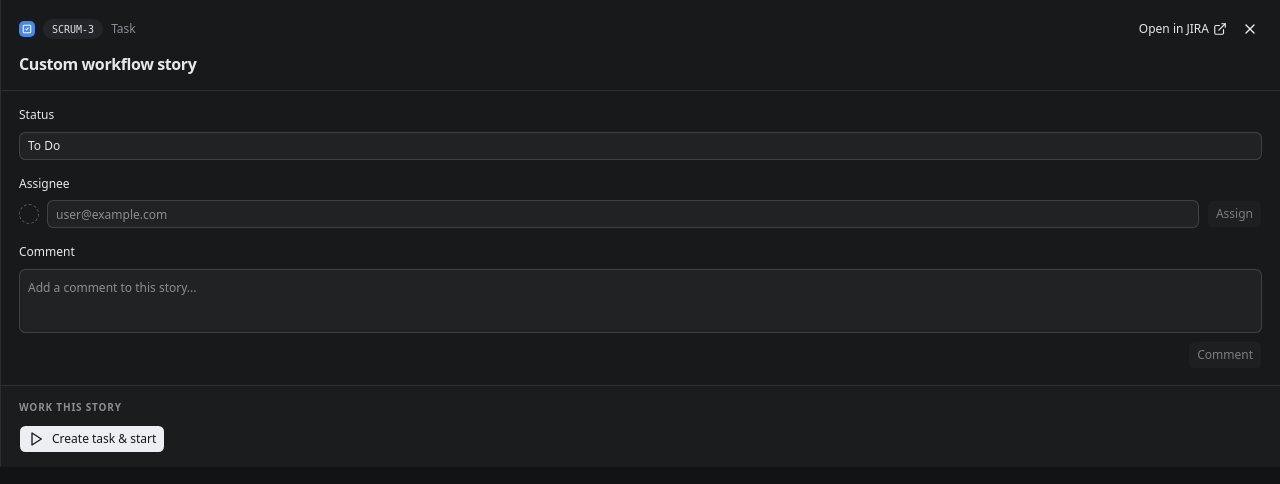
Test: JiraWorkItemPanel status dropdown › offers the issue's legal REST transitions when connected
Click the dropdown named "status".
click(44, 145)  # box [19,132,1262,160]
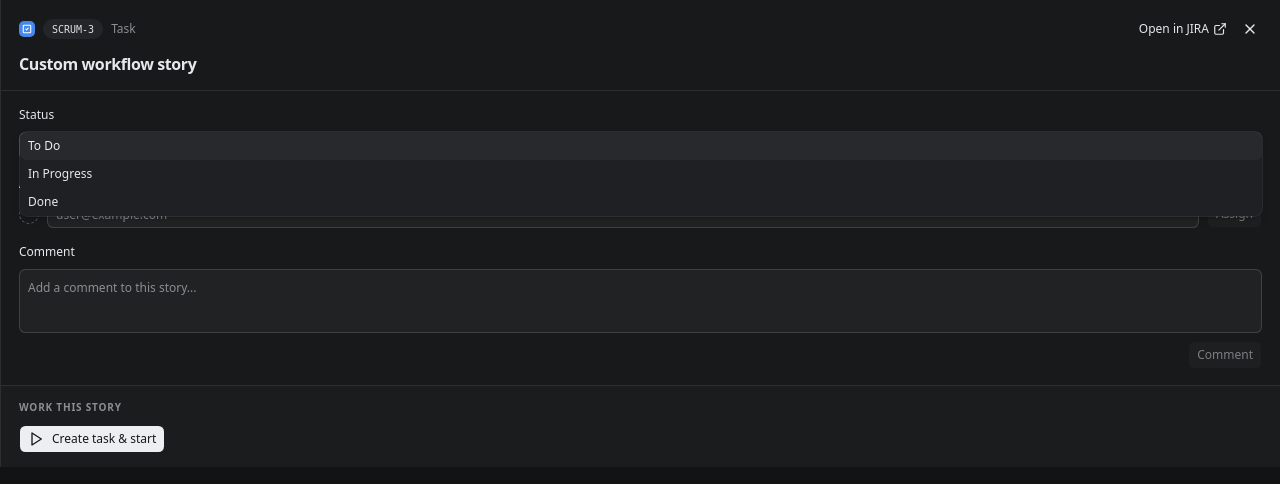
Expected: the option "In Progress" is shown, [28,165,92,182]
Expected: the option "Done" is shown, [28,193,58,210]
